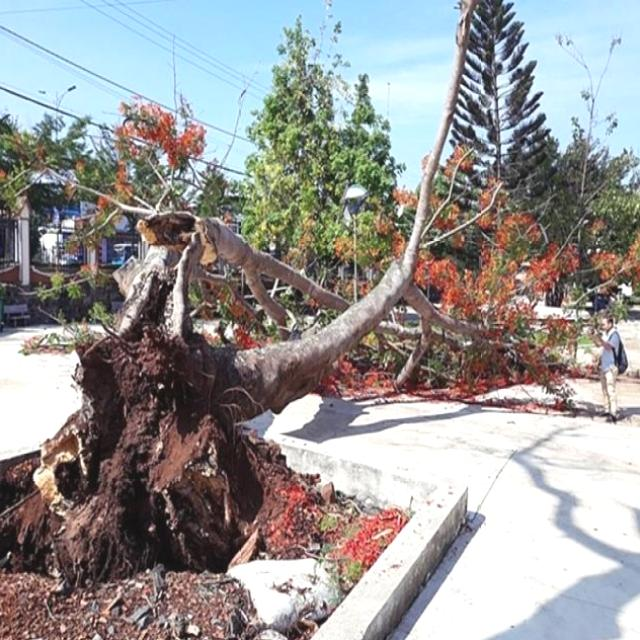fallen_object: (8, 97, 636, 567)
